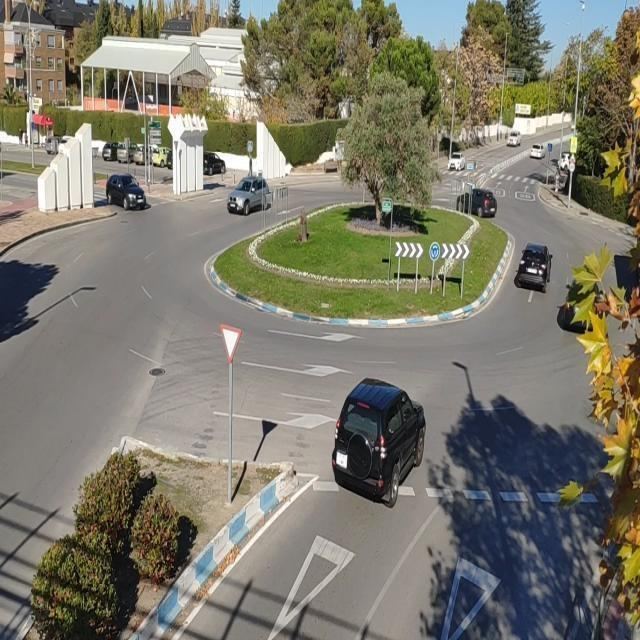Car: (332, 378, 426, 508), (515, 244, 554, 292), (227, 176, 270, 217), (105, 173, 147, 210), (457, 188, 498, 218), (448, 153, 465, 171), (506, 131, 521, 147)
Van: (530, 144, 545, 160)
